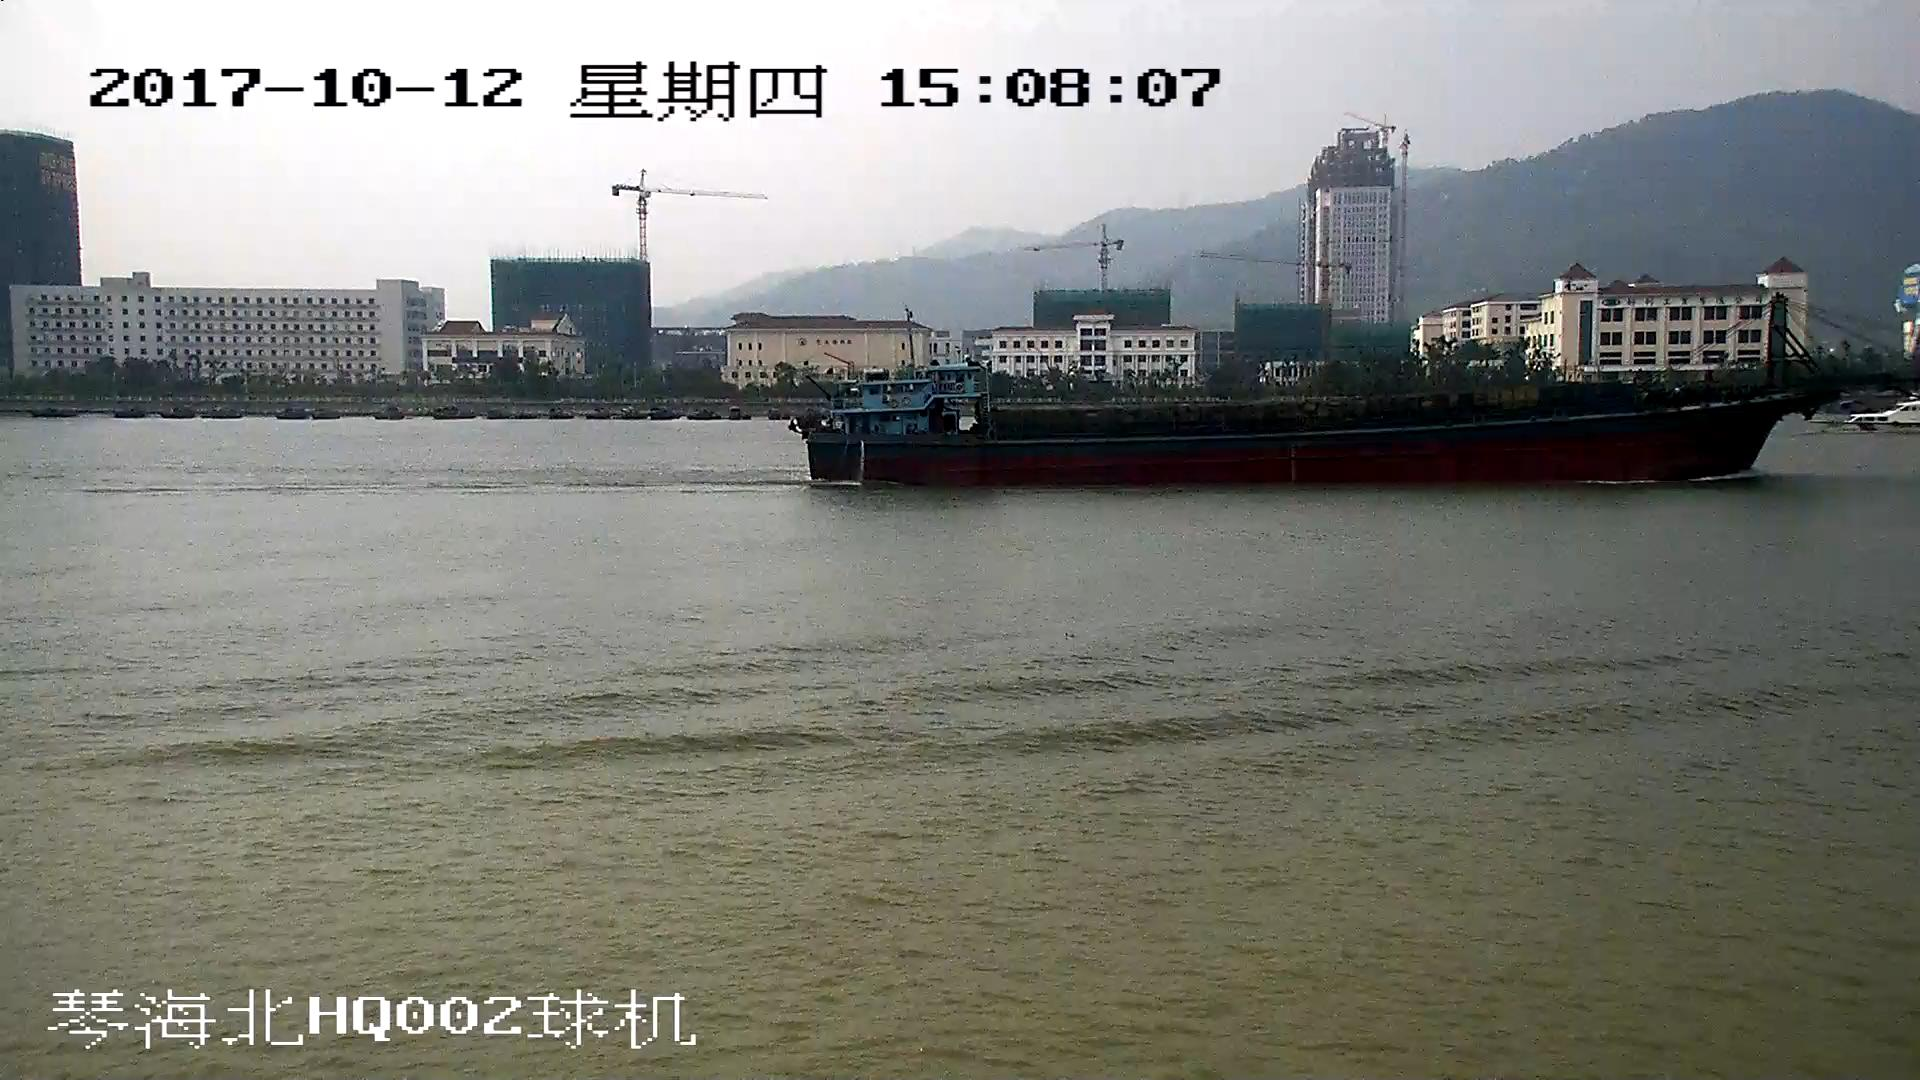bulk cargo carrier: (794, 294, 1920, 481)
